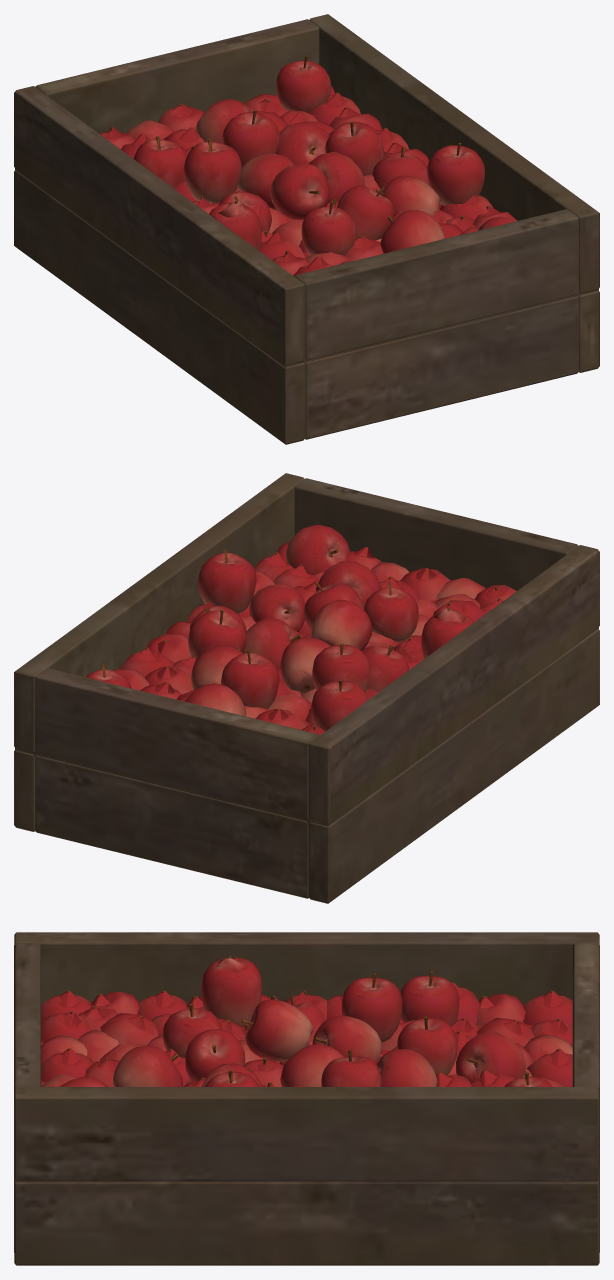
Rendered from FoodCrate_Apple.glb.
The picture shows the model from 3 angles, top to bottom: view 1: azimuth 30°, elevation 25°; view 2: azimuth 150°, elevation 25°; view 3: azimuth 270°, elevation 25°; orthographic projection. The views are drawn at different scales.
Visible parts, largest first — view 1: WoodCrate, Apple_Pile; view 2: WoodCrate, Apple_Pile; view 3: WoodCrate, Apple_Pile.
Boxes of the visible parts, x1,y1,x2,y2 form: WoodCrate: [14, 14, 599, 444]; Apple_Pile: [99, 55, 517, 276]; WoodCrate: [14, 473, 599, 903]; Apple_Pile: [85, 524, 516, 735]; WoodCrate: [14, 932, 599, 1265]; Apple_Pile: [41, 956, 572, 1086].
Size of the model in its own units: 0.4866 by 0.2384 by 0.7246.
2 materials, 2 textured.
